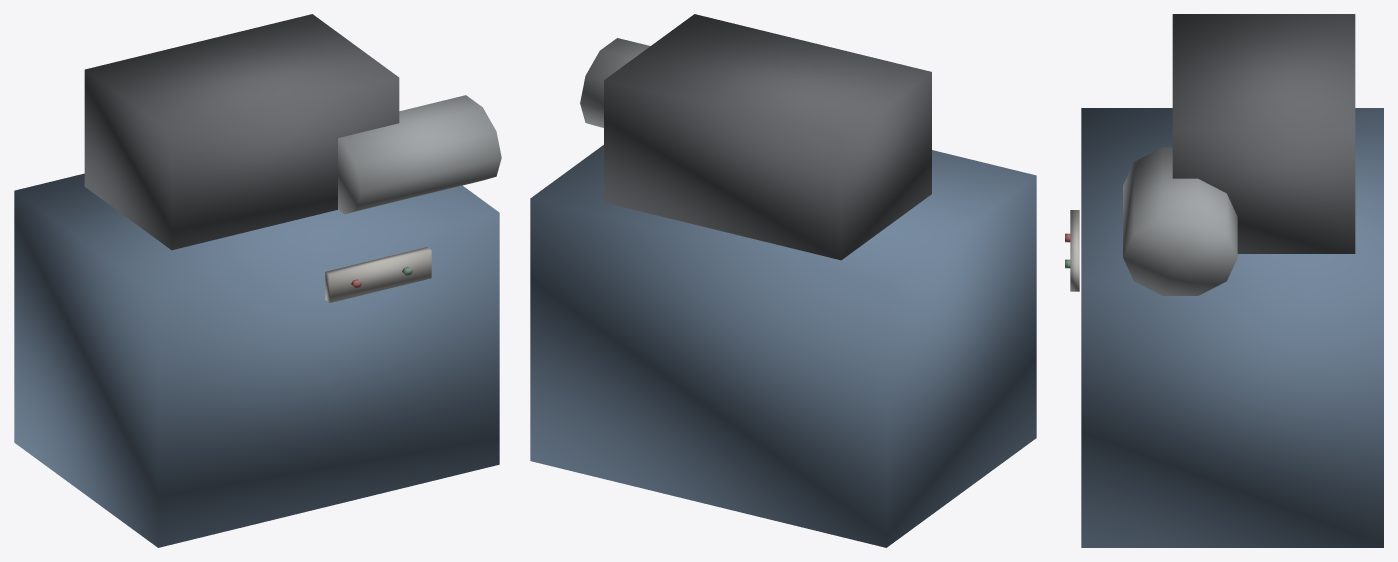
The model's file is library_cart__squat.glb.
3 views of the same model, side by side, from view 1: azimuth 30°, elevation 25°; view 2: azimuth 150°, elevation 25°; view 3: azimuth 270°, elevation 25° (orthographic). The views are drawn at different scales.
Visible parts, largest first — view 1: world; view 2: world; view 3: world.
Part boxes in pixels (left/top/right/bottom): world: left=14, top=14, right=501, bottom=547; world: left=530, top=14, right=1036, bottom=547; world: left=1065, top=14, right=1383, bottom=547.
Bounding box in the file's own units: 0.913 × 0.8862 × 0.6599.
